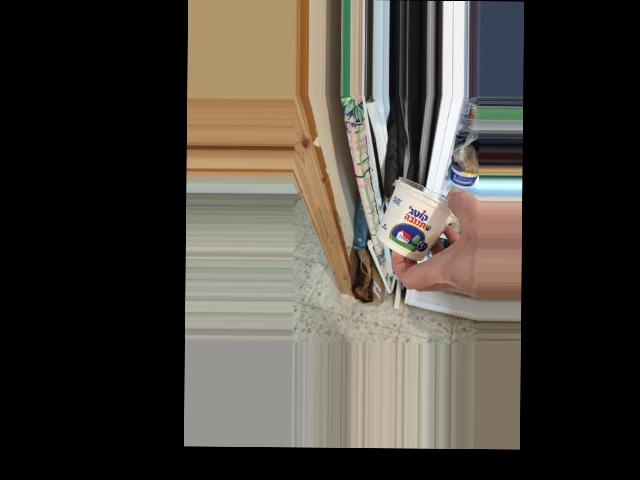cotage: (377, 174, 450, 257)
